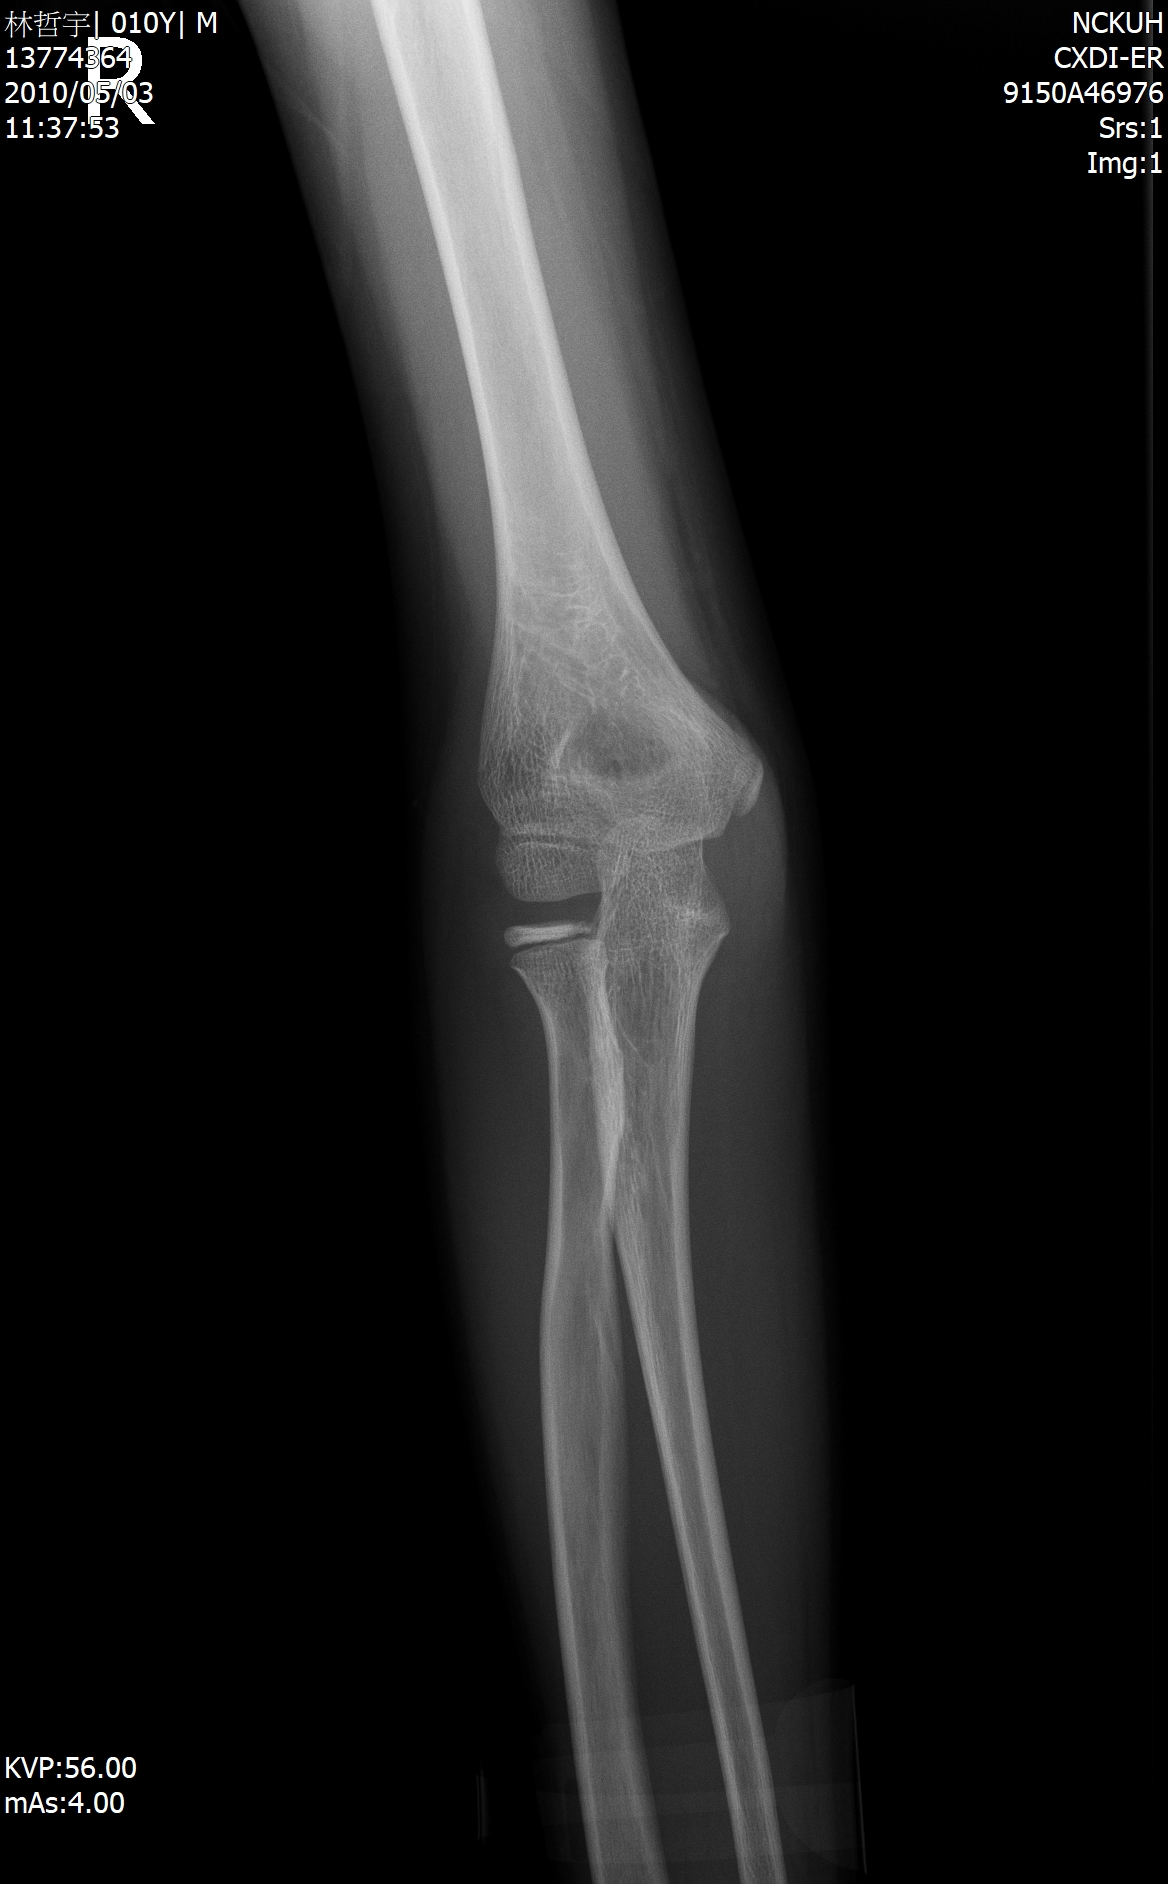Normal: (327, 525, 934, 1128)
